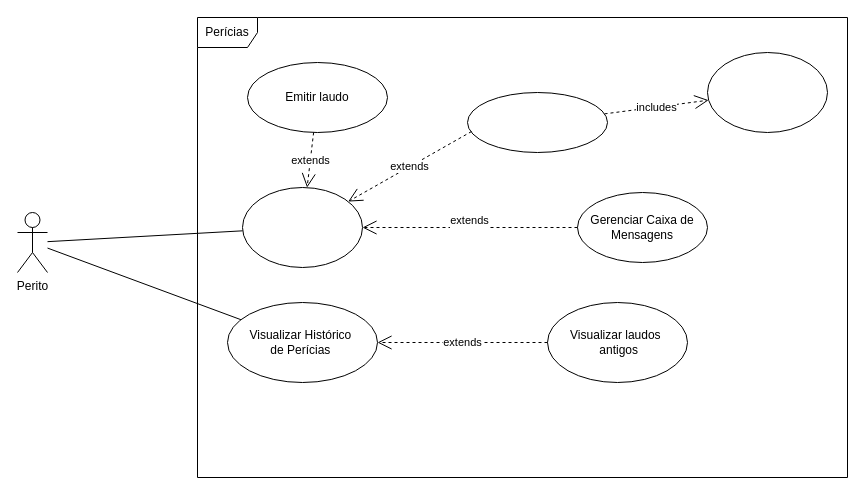
Image size: 865x495. Some labels were removed from this diagram. Here are the shapes that lost their labels. From the top down, the centre of each, then its label:
At point 767,92: "Visualizar laudo(s) disponível(eis)".
At point 537,122: "Personalizar laudos".
At point 302,227: "Visualizar Perícias Agendadas".
